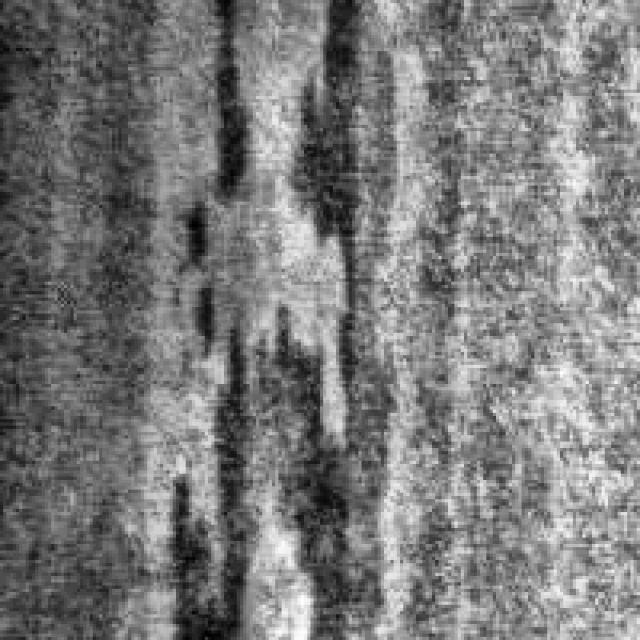Patches: (148, 297, 374, 634), (284, 0, 406, 371), (157, 3, 253, 285)
